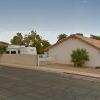Tree: (5, 27, 47, 52)
